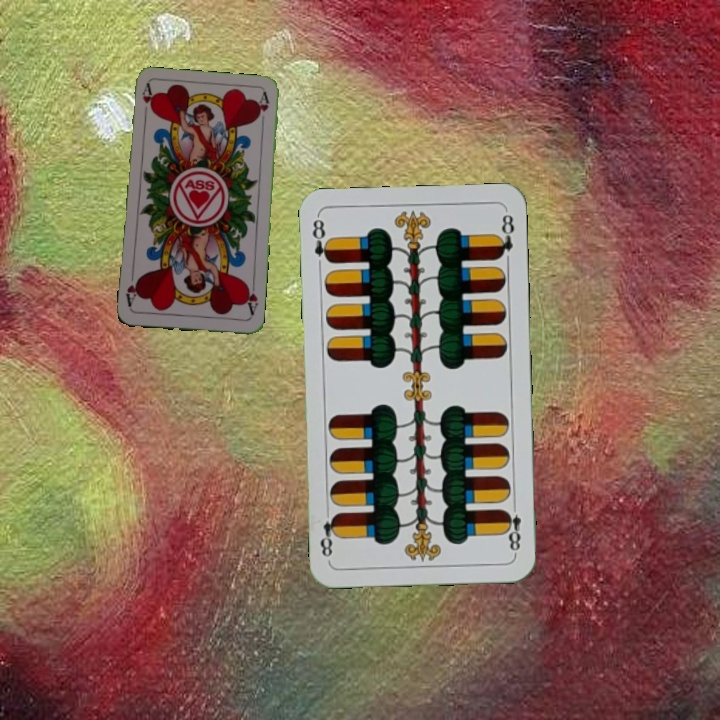E8: (500, 498, 524, 557), (308, 213, 334, 266)
HA: (241, 278, 261, 319), (138, 81, 155, 122)
